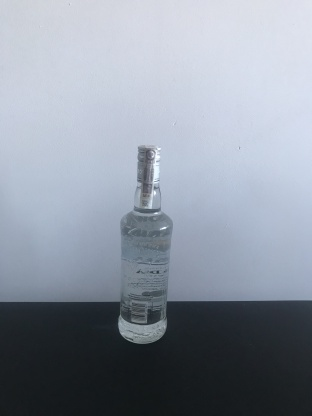nakretka: (134, 140, 164, 185)
